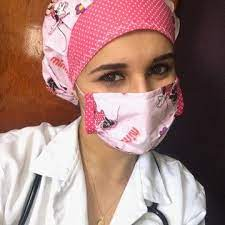with_mask_and_cap: (46, 1, 180, 156)
